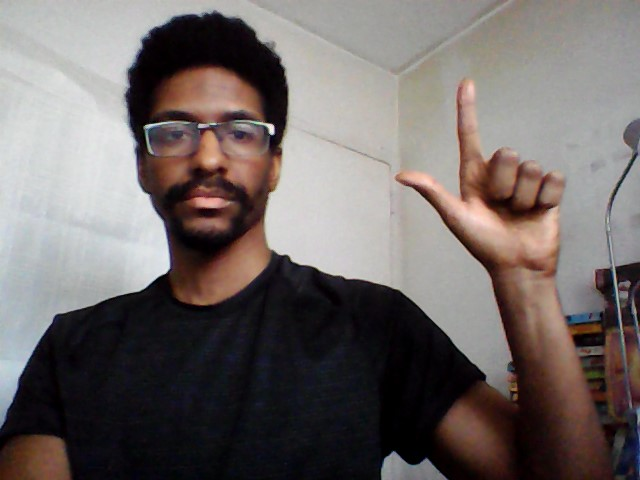l: (388, 72, 572, 279)
